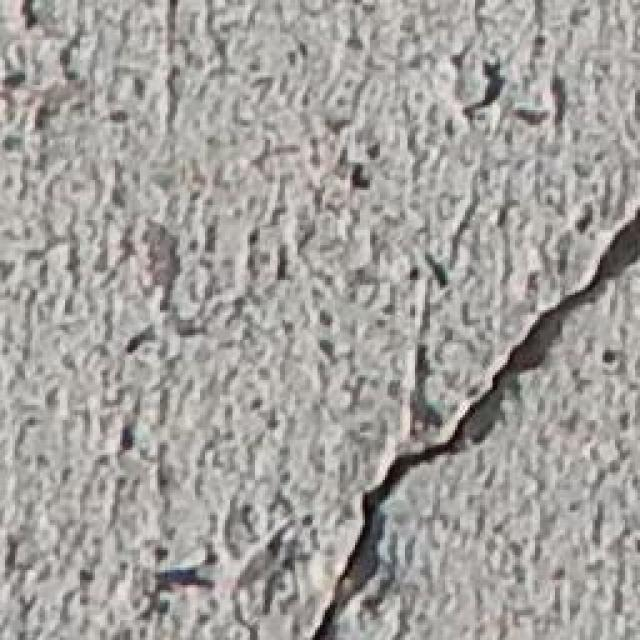concrete-crack: (304, 199, 639, 640), (404, 156, 491, 435)
